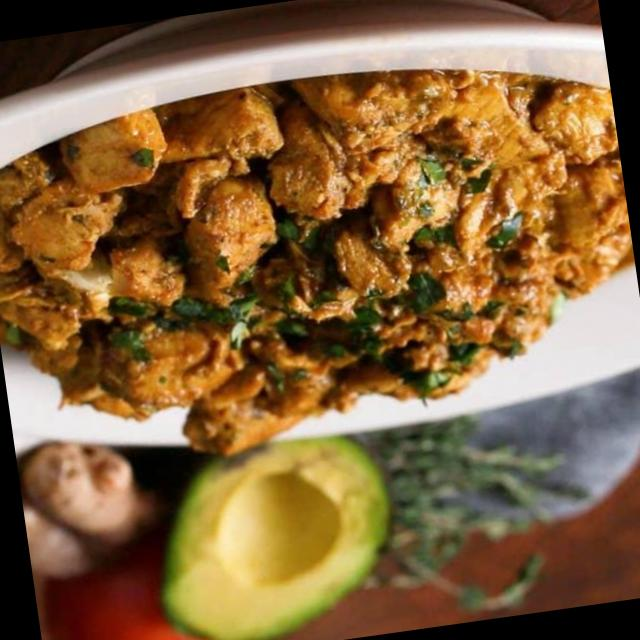chicken: (0, 50, 623, 451)
